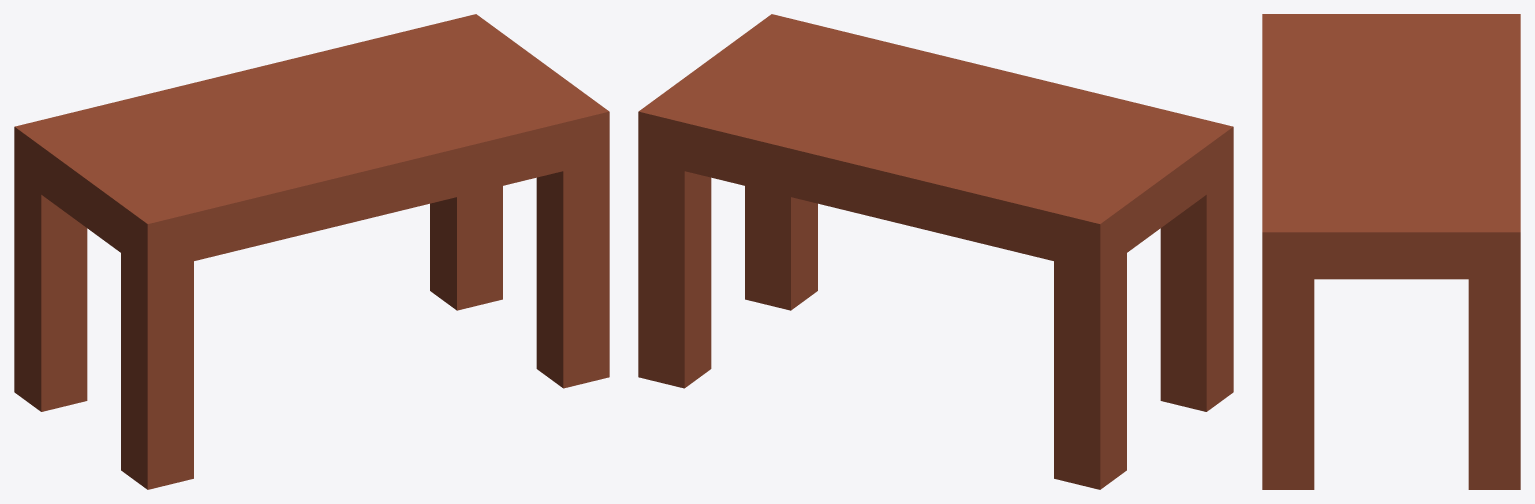
File: table.fbx
The picture shows the model from 3 angles, left to right: view 1: azimuth 30°, elevation 25°; view 2: azimuth 150°, elevation 25°; view 3: azimuth 270°, elevation 25°; orthographic projection. The views are drawn at different scales.
Visible parts, largest first — view 1: pCube1; view 2: pCube1; view 3: pCube1.
Part boxes in pixels (<box>): pCube1: <box>14,14,609,489</box>; pCube1: <box>638,14,1233,489</box>; pCube1: <box>1262,14,1520,489</box>.
Size of the model in its own units: 12.5 by 6.88 by 6.25.
1 material, 1 textured.
